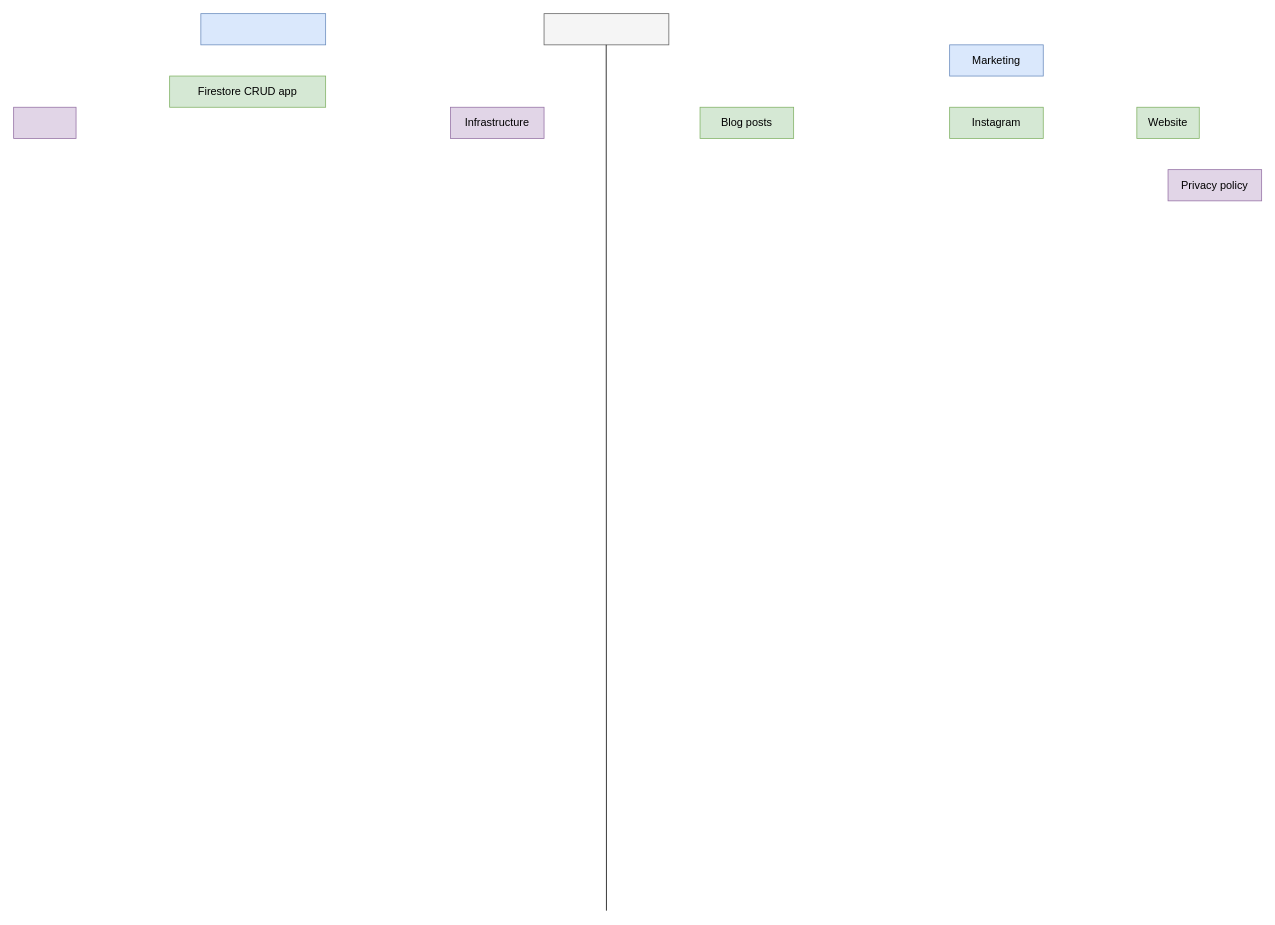
The diagram is 1275 pixels wide and 925 high, and some of its shapes have lost their labels. The shapes that lost their labels are listed below. From the top down, each one's centre as x and y in pixels, then its label:
point (263, 29): App development
point (606, 29): somtum.io
point (44, 122): React
